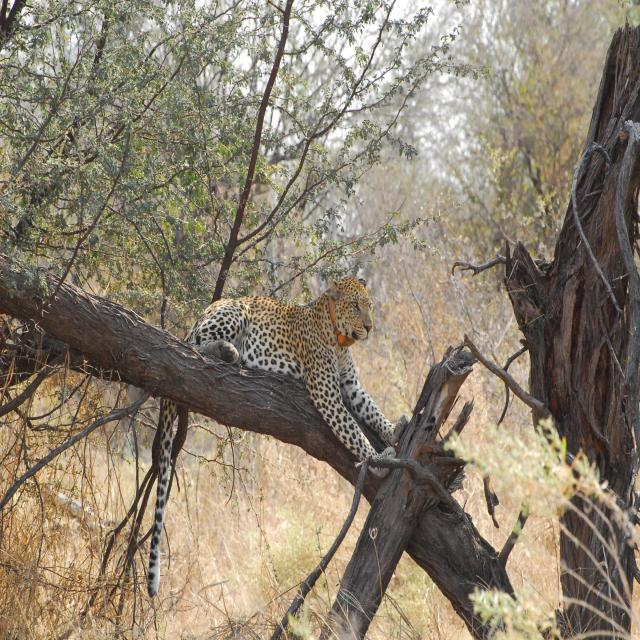Leopard: (161, 260, 410, 565)
